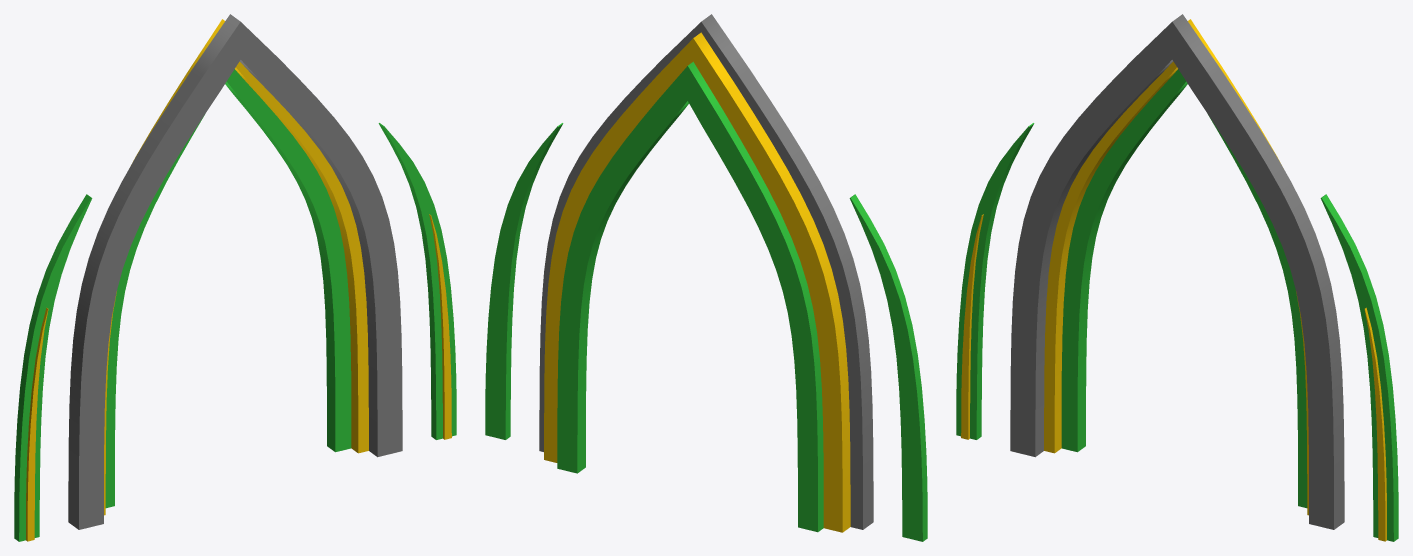
Rendered from Gate.fbx.
3 views of the same model, side by side, from view 1: azimuth 30°, elevation 25°; view 2: azimuth 150°, elevation 25°; view 3: azimuth 330°, elevation 25° (orthographic).
Visible parts, largest first — view 1: Box003; view 2: Box003; view 3: Box003.
Boxes of the visible parts, x1=… form: Box003: x1=14, y1=14, x2=456, y2=541; Box003: x1=485, y1=14, x2=927, y2=541; Box003: x1=956, y1=14, x2=1398, y2=541.
Bounding box in the file's own units: 275 × 282 × 26.18.
